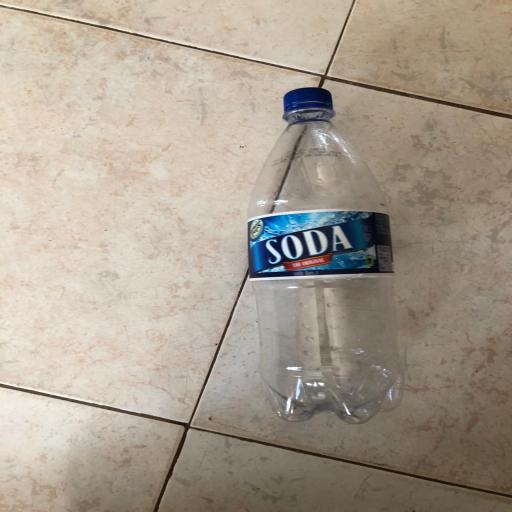waste: (235, 77, 433, 434)
